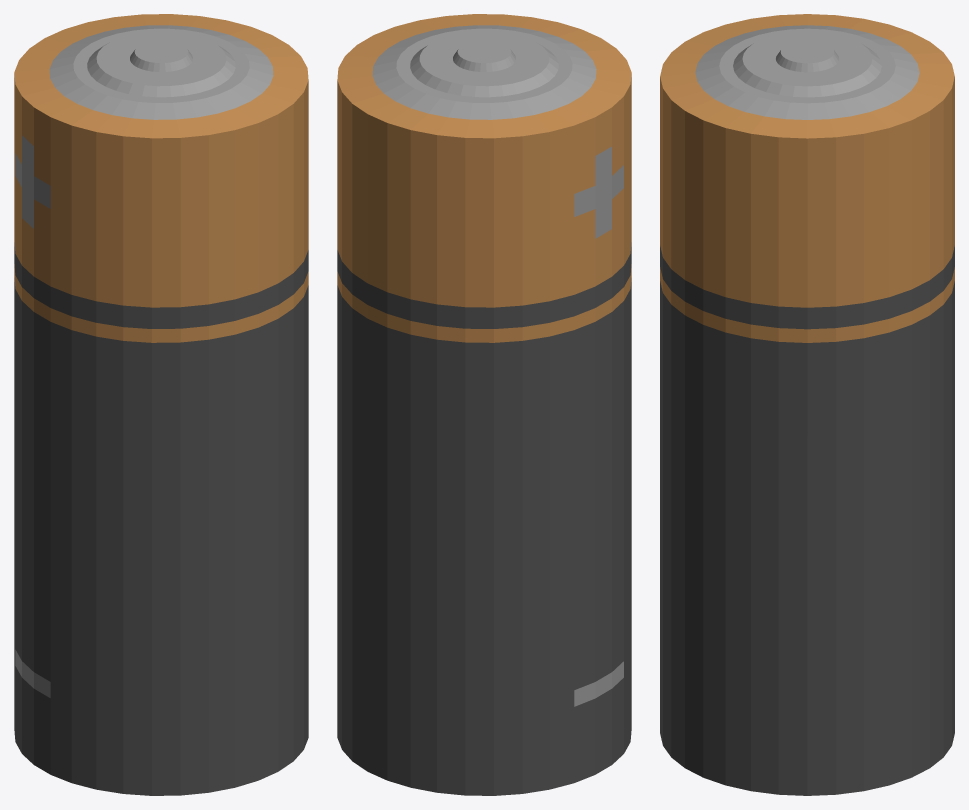
The model's file is BatteryMapping.fbx.
3 views of the same model, side by side, from view 1: azimuth 30°, elevation 25°; view 2: azimuth 150°, elevation 25°; view 3: azimuth 270°, elevation 25° (orthographic).
Visible parts, largest first — view 1: battery; view 2: battery; view 3: battery.
Part boxes in pixels (x1,y1,x2,y2): battery: [14, 14, 308, 795]; battery: [337, 14, 631, 795]; battery: [660, 14, 954, 795].
Size of the model in its own units: 200 by 511 by 200.
